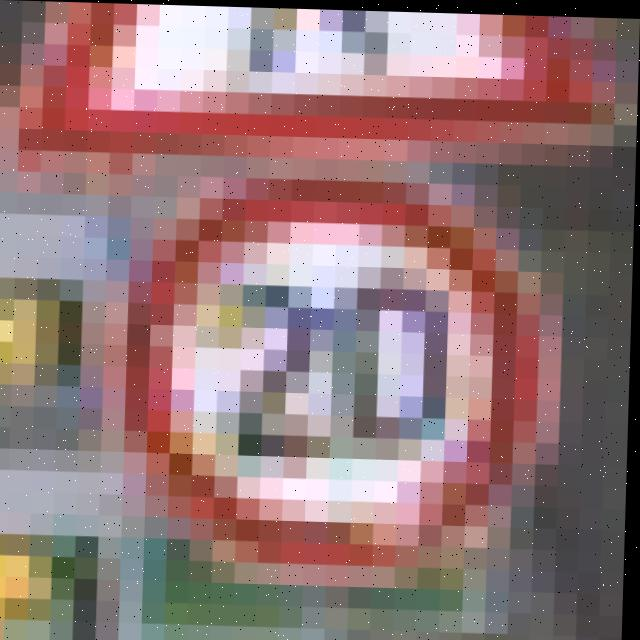speed_limit_20: (110, 175, 607, 618)
